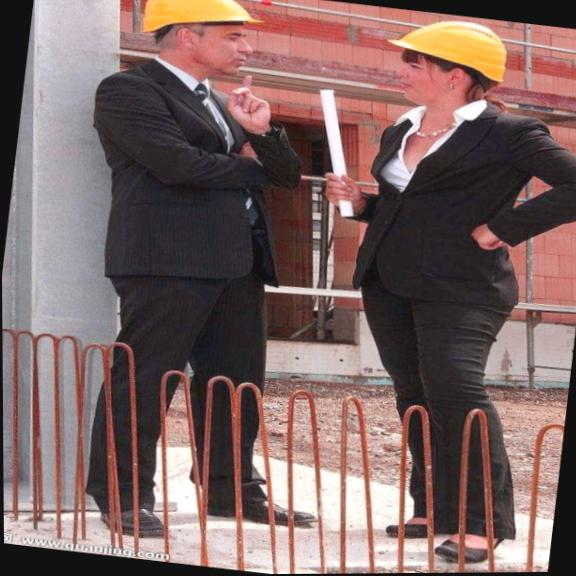no_safety_vest: (332, 94, 557, 388), (62, 67, 286, 334)
